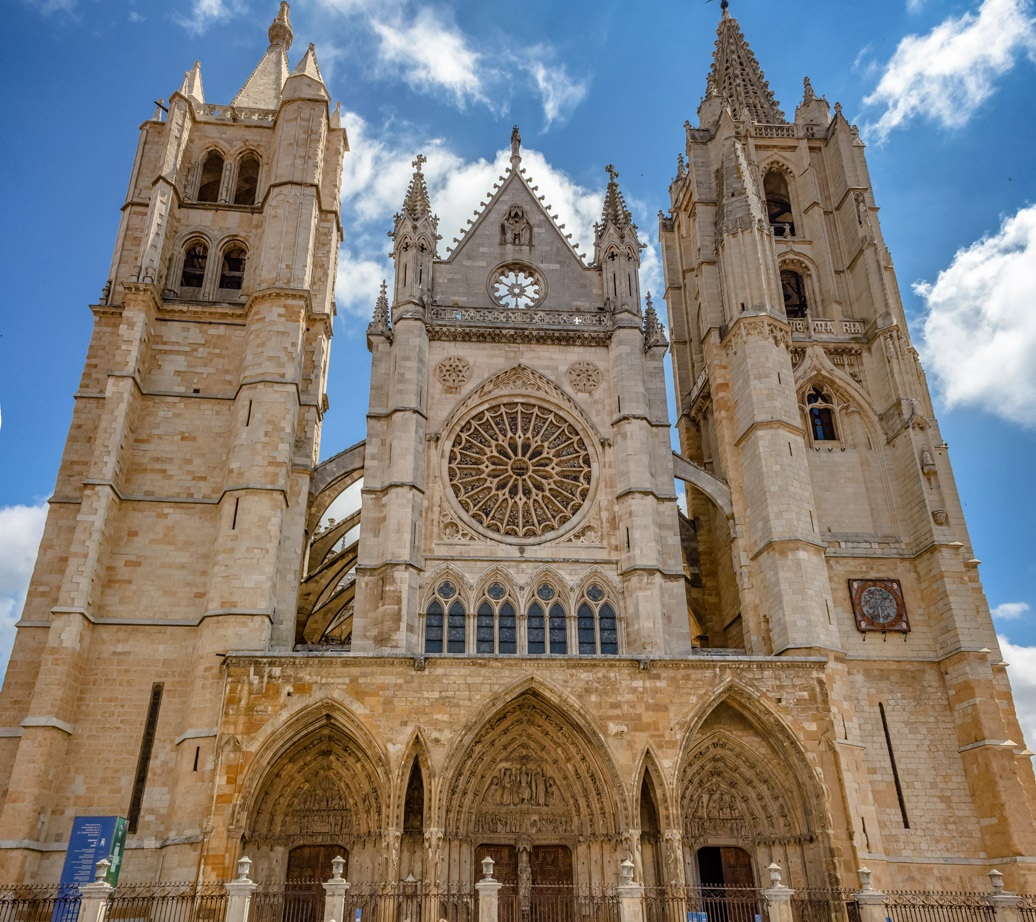arco-apuntado: (433, 675, 632, 831), (673, 677, 829, 830), (233, 696, 392, 830), (392, 724, 432, 828), (632, 740, 673, 831), (471, 559, 522, 616), (574, 561, 625, 616), (523, 562, 573, 615), (420, 561, 471, 612)
pinaculo-gotico: (703, 1, 788, 124), (590, 161, 639, 242), (391, 153, 440, 233), (366, 276, 392, 335), (642, 287, 666, 342)
